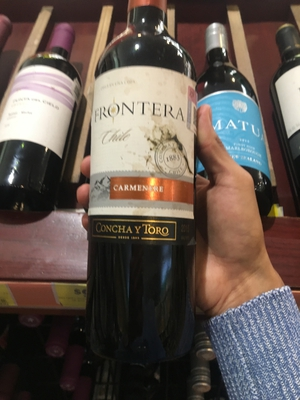frontera carmenere: (87, 3, 195, 355)
